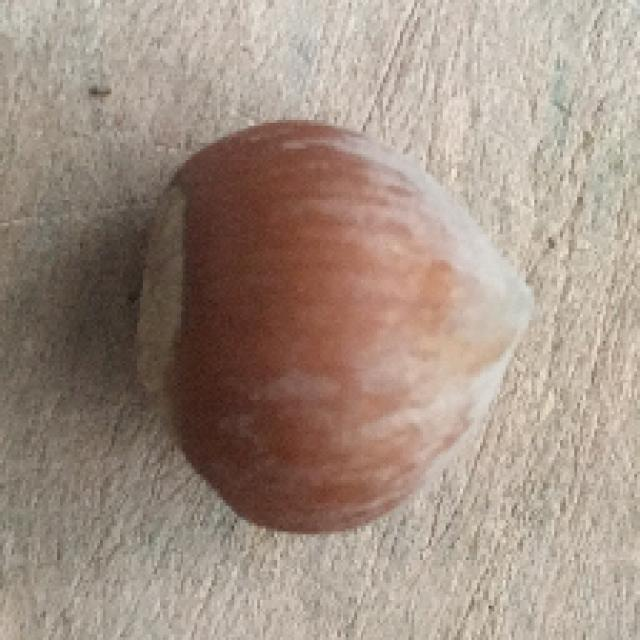qualityHazelnut: (133, 122, 537, 533)
